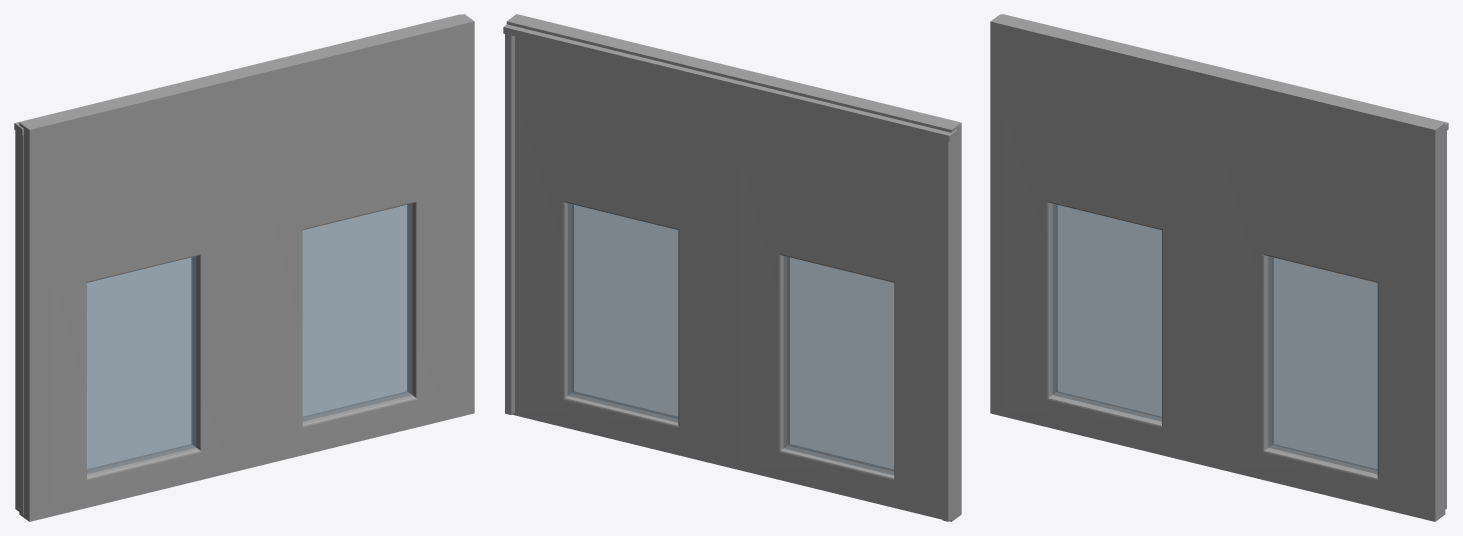
The model's file is Porte.fbx.
The picture shows the model from 3 angles, left to right: view 1: azimuth 30°, elevation 25°; view 2: azimuth 150°, elevation 25°; view 3: azimuth 330°, elevation 25°; orthographic projection.
Parts seen in each view (by area): view 1: pPlane9, polySurface21; view 2: pPlane9, polySurface21; view 3: polySurface21, pPlane9.
Part boxes in pixels (x1,y1,x2,y2): pPlane9: [14, 68, 251, 521]; polySurface21: [14, 14, 474, 467]; pPlane9: [726, 68, 961, 521]; polySurface21: [503, 14, 957, 467]; polySurface21: [1212, 68, 1448, 521]; pPlane9: [990, 14, 1225, 467].
Bounding box in the file's own units: 325 × 273 × 17.35.
